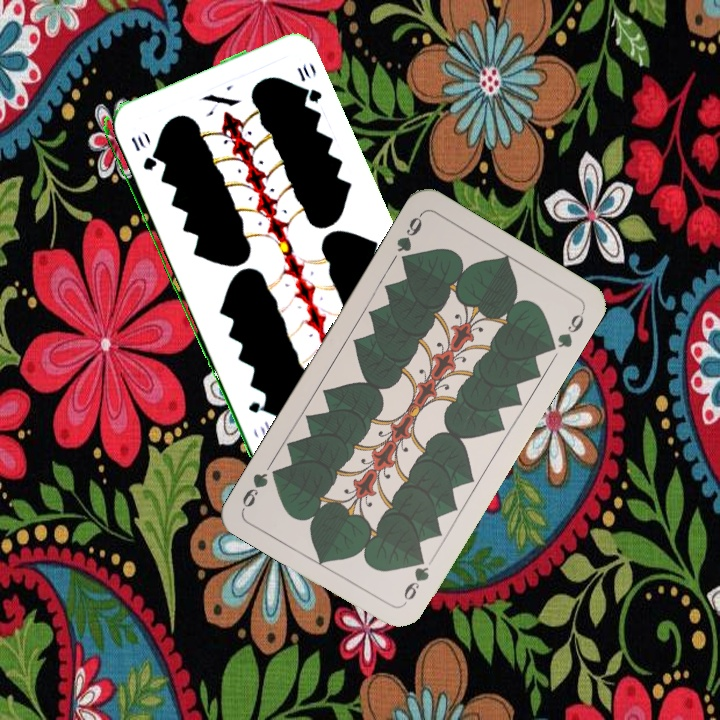G10: (127, 132, 156, 173)
G9: (392, 209, 425, 268), (399, 551, 432, 608)
